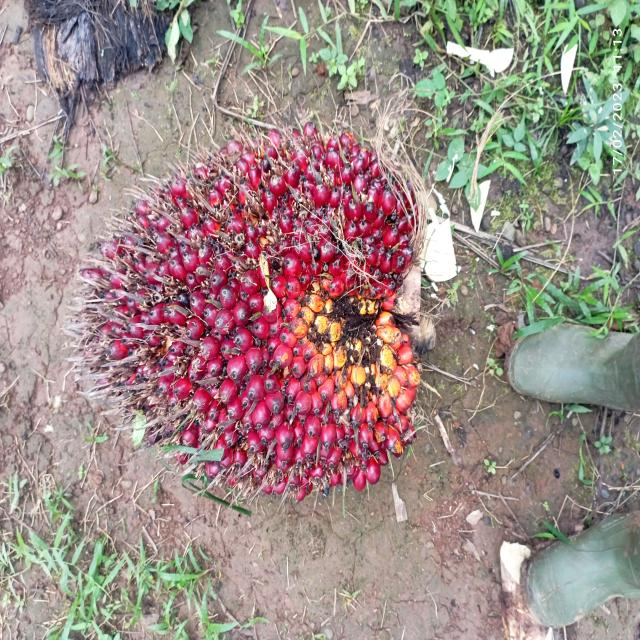fraksi 3: (64, 106, 472, 518)
